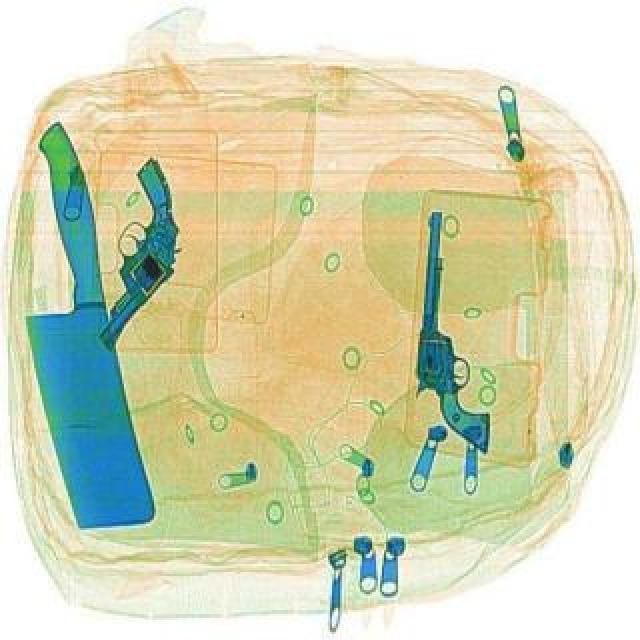gun: (32, 158, 230, 350), (414, 216, 498, 458)
knife: (0, 120, 160, 536)
